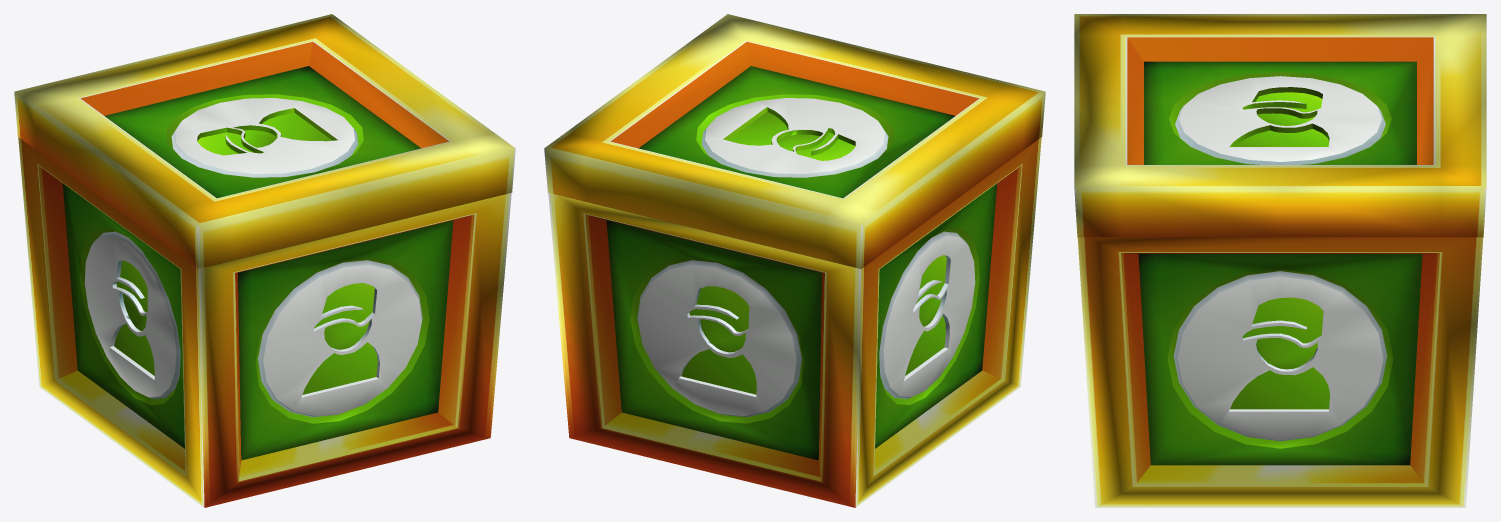
The model's file is tokenMysteryBox.glb.
3 views of the same model, side by side, from view 1: azimuth 30°, elevation 25°; view 2: azimuth 150°, elevation 25°; view 3: azimuth 270°, elevation 25° (orthographic). The views are drawn at different scales.
Parts seen in each view (by area): view 1: offset, lid; view 2: offset, lid; view 3: offset, lid.
Boxes of the visible parts, left/top/right/bottom form: offset: left=18, top=137, right=511, bottom=507; lid: left=14, top=14, right=515, bottom=268; offset: left=548, top=137, right=1041, bottom=507; lid: left=544, top=14, right=1045, bottom=268; offset: left=1077, top=237, right=1483, bottom=507; lid: left=1074, top=14, right=1486, bottom=237.
Bounding box in the file's own units: 0.0895 × 0.0787 × 0.0895.
Materials: 1 (1 with a texture image).
